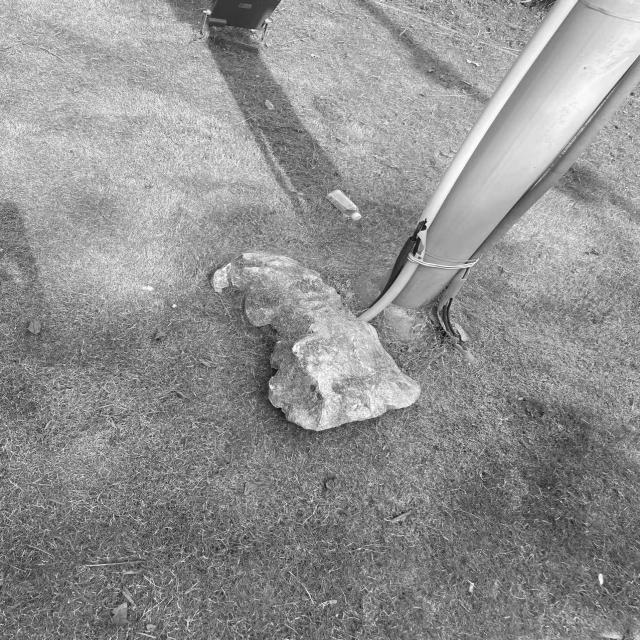Pole: (360, 0, 640, 335)
Stone: (212, 252, 422, 430)
